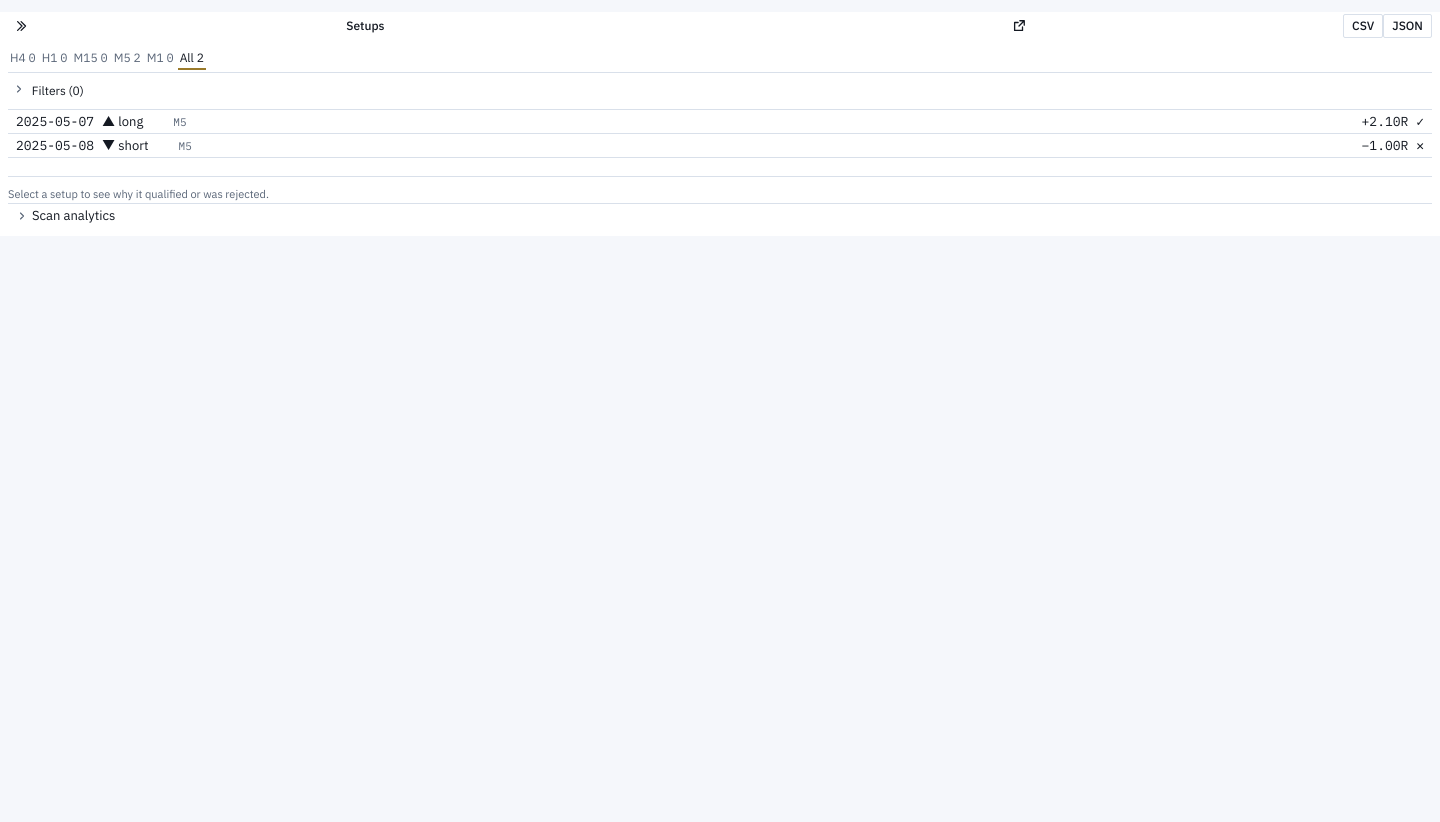
DX12 review marks › is ignored while typing in the note field
Click the button "2025-05-07 ▲ long M5 +2.10R ✓": coordinates (55, 121) x1=8 y1=110 x2=1432 y2=134
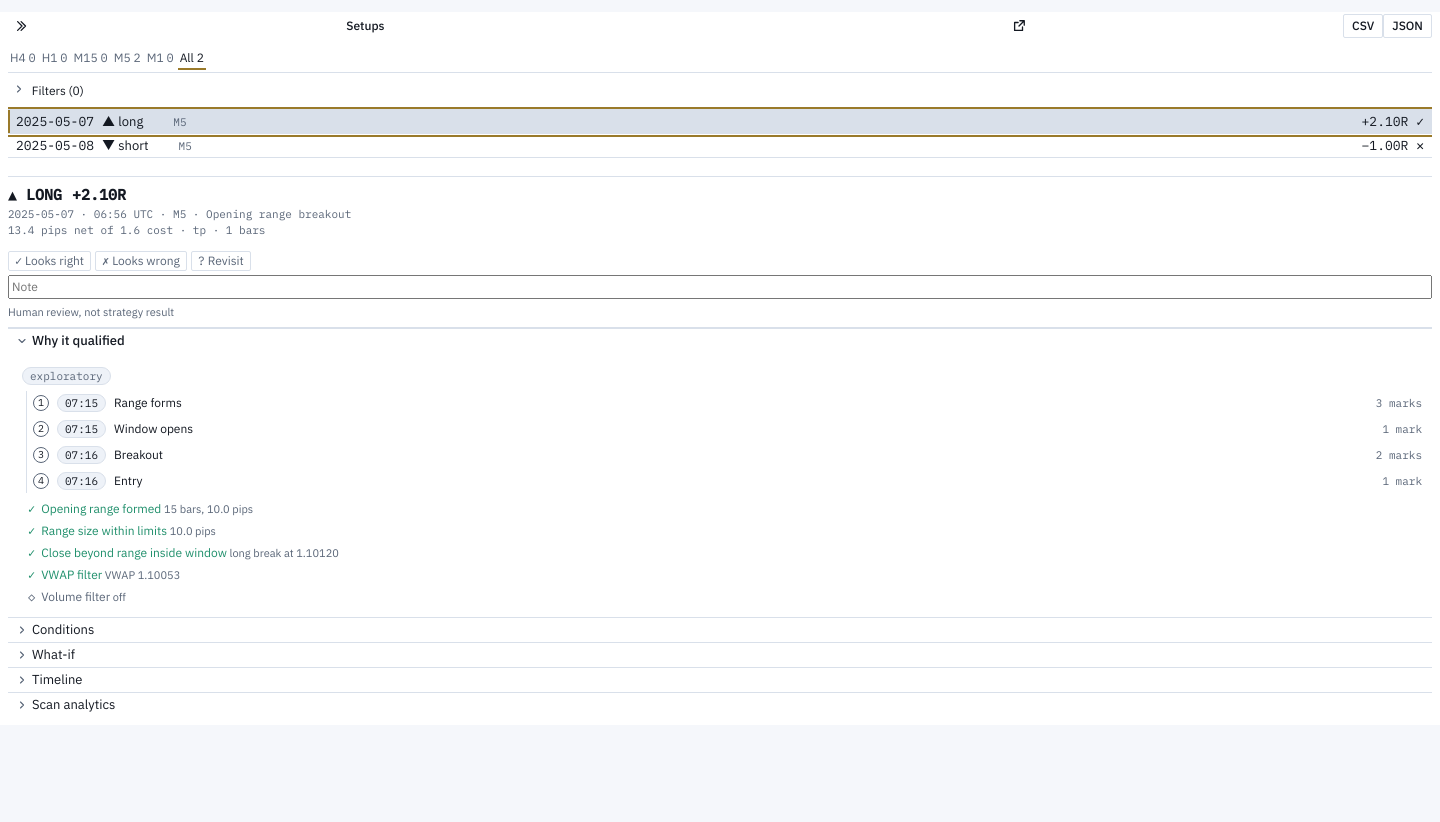
Click the field named "Review note": coordinates (720, 287) x1=8 y1=275 x2=1432 y2=299
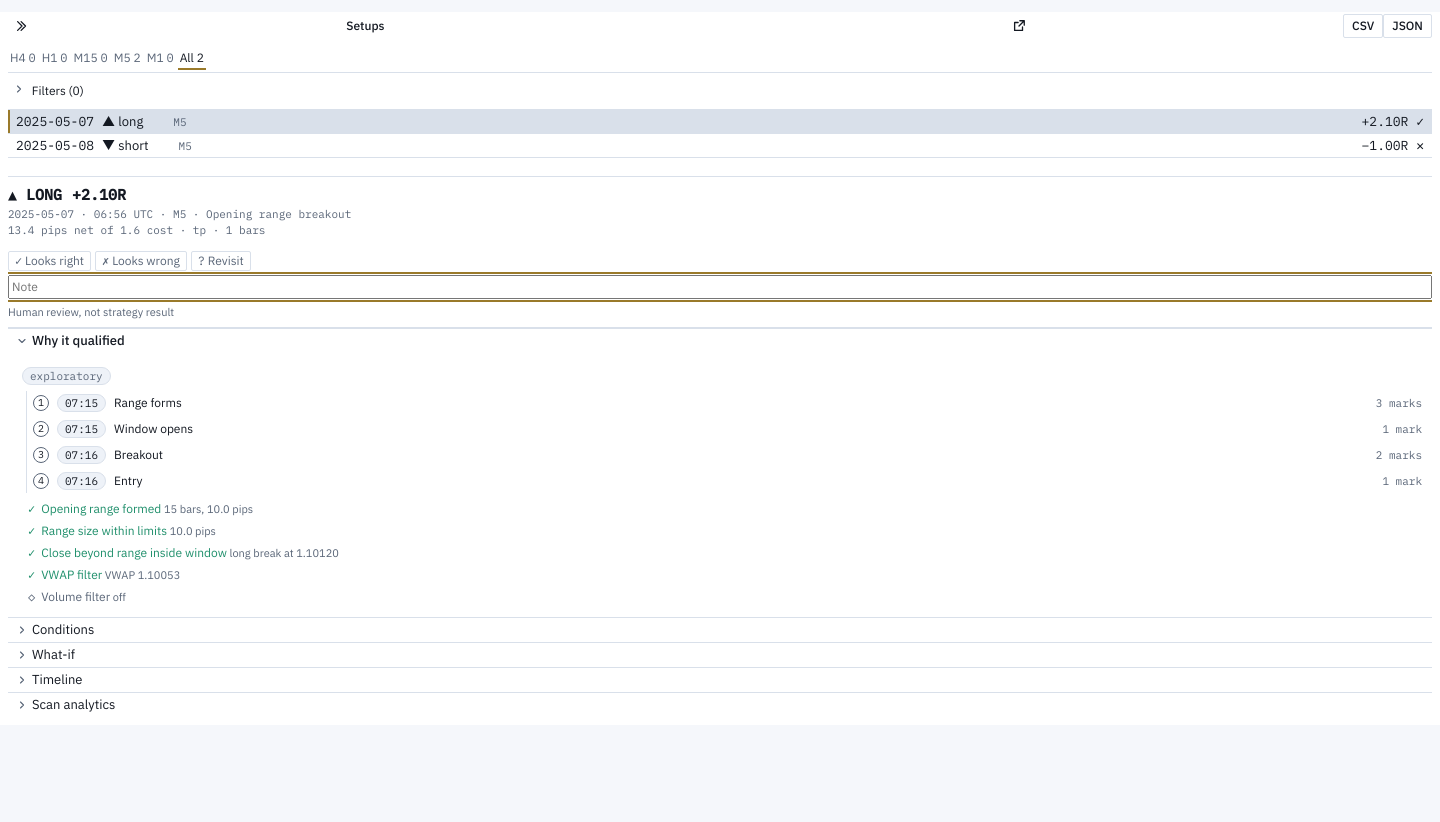
Type keys "ynr"
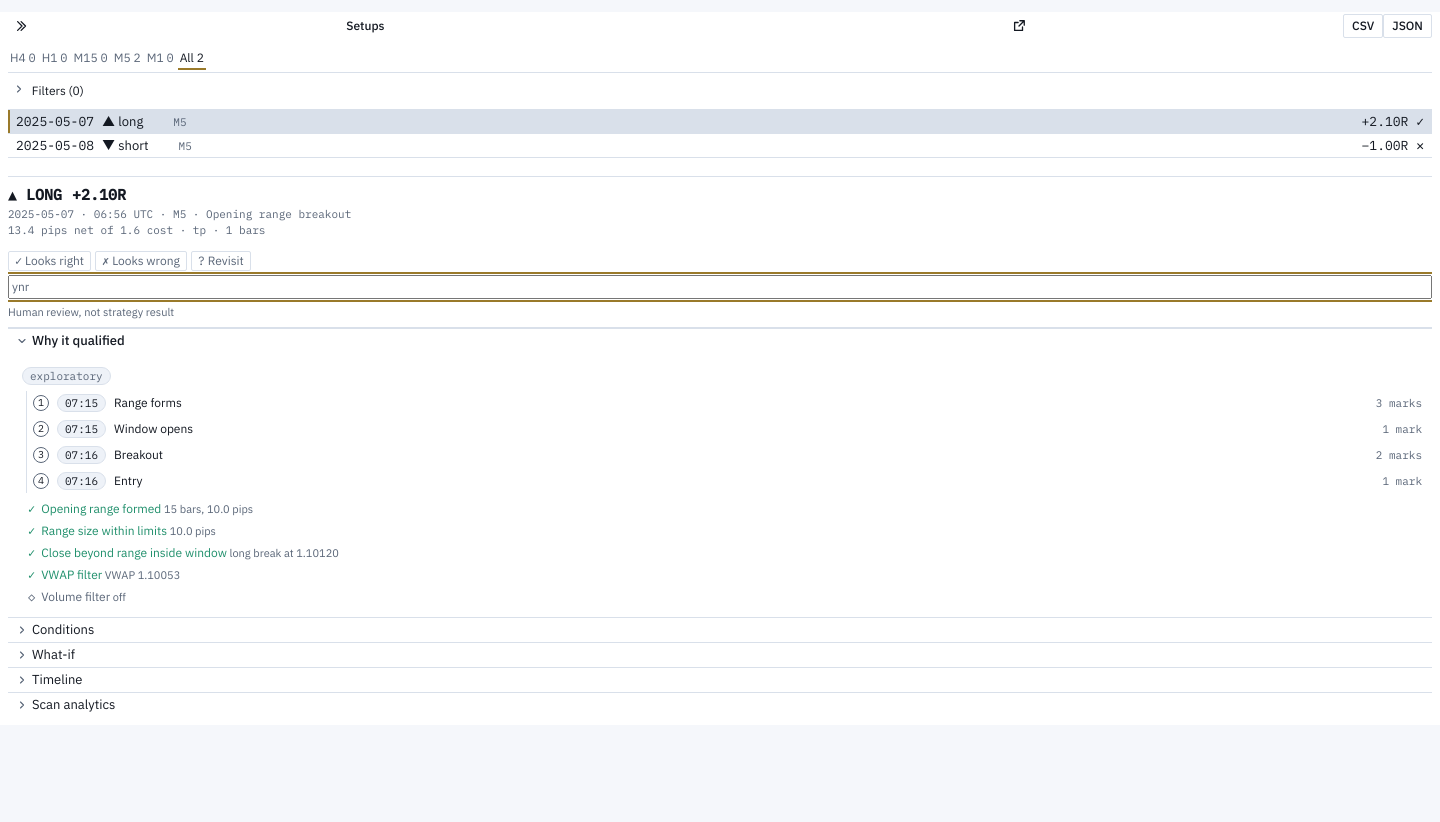
Result: the field named "Review note" holds "ynr" at x1=8 y1=275 x2=1432 y2=299
